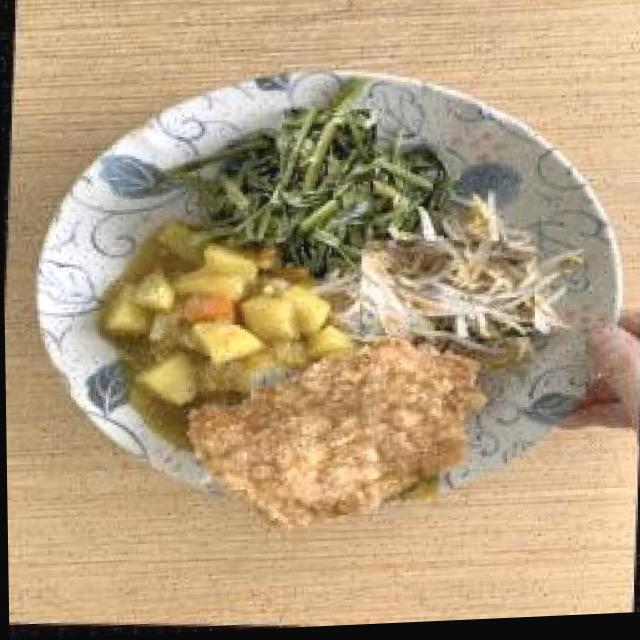curry: (136, 264, 310, 378)
fried_chicken: (242, 367, 444, 512)
mung_bean_sprouts: (356, 236, 537, 351)
water_spinach: (257, 124, 396, 264)
